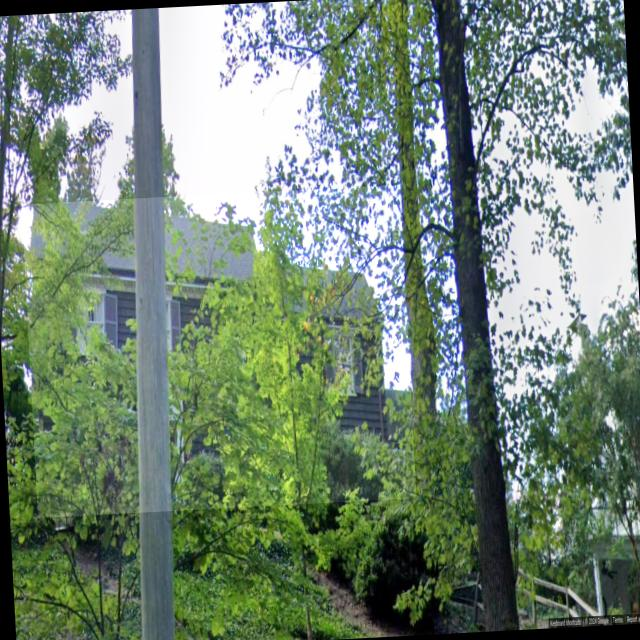House: (21, 184, 416, 518)
